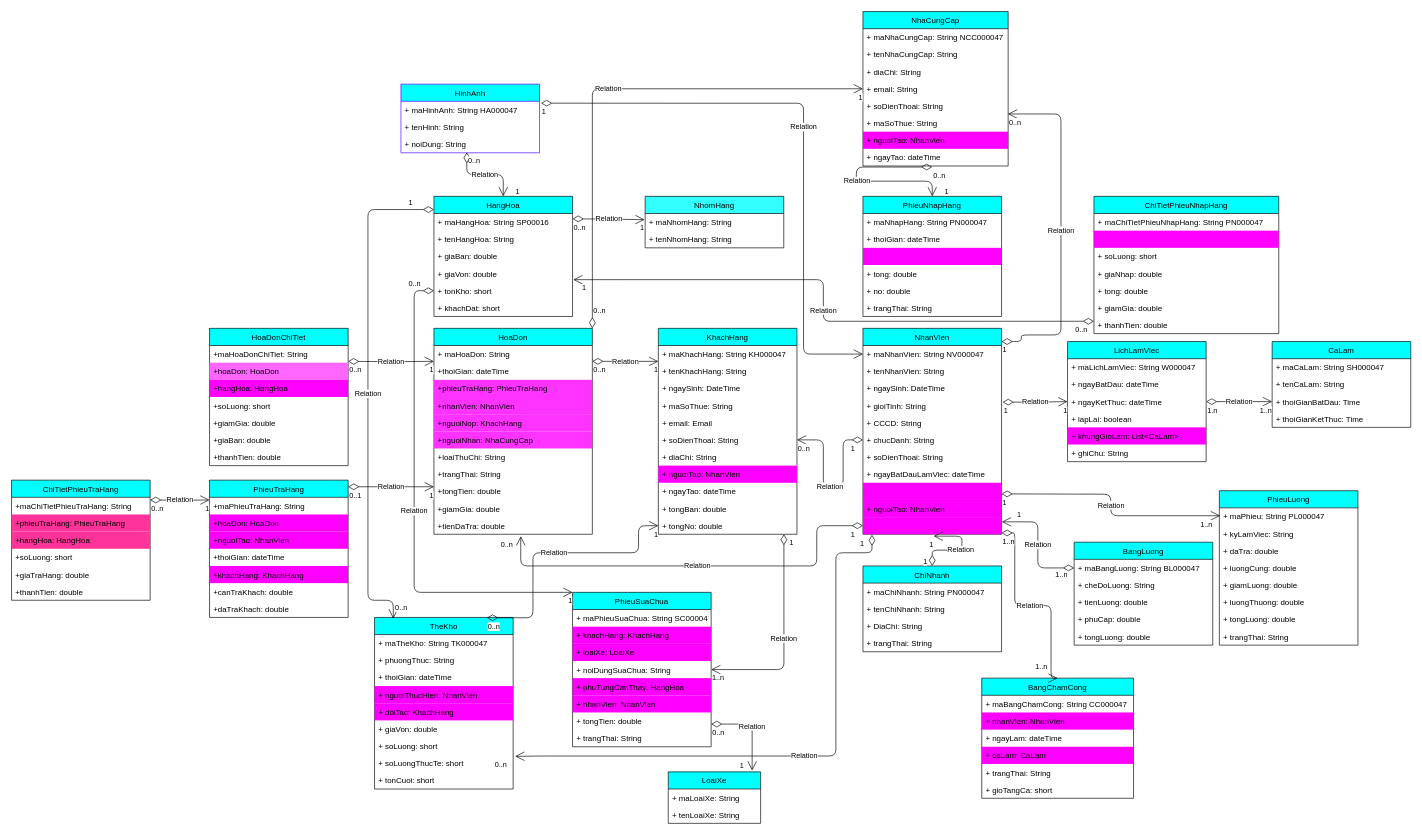
Some shapes in this 1422 by 837 pixel diagram are drawn without their labels. The centre of each missing label's shape, as x and y in pixels:
+ anh: HinhAnh: the point at 932,525
+ chiNhanhLamViec: ChiNhanh: the point at 932,491
+ hangHoa: HangHoa: the point at 1186,239
+ nhaCungCap: NhaCungCap: the point at 932,256
